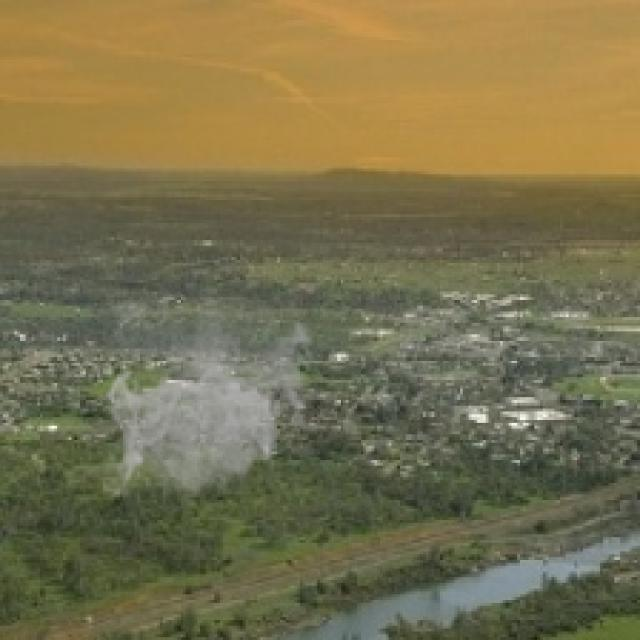smoke: (103, 297, 320, 509)
